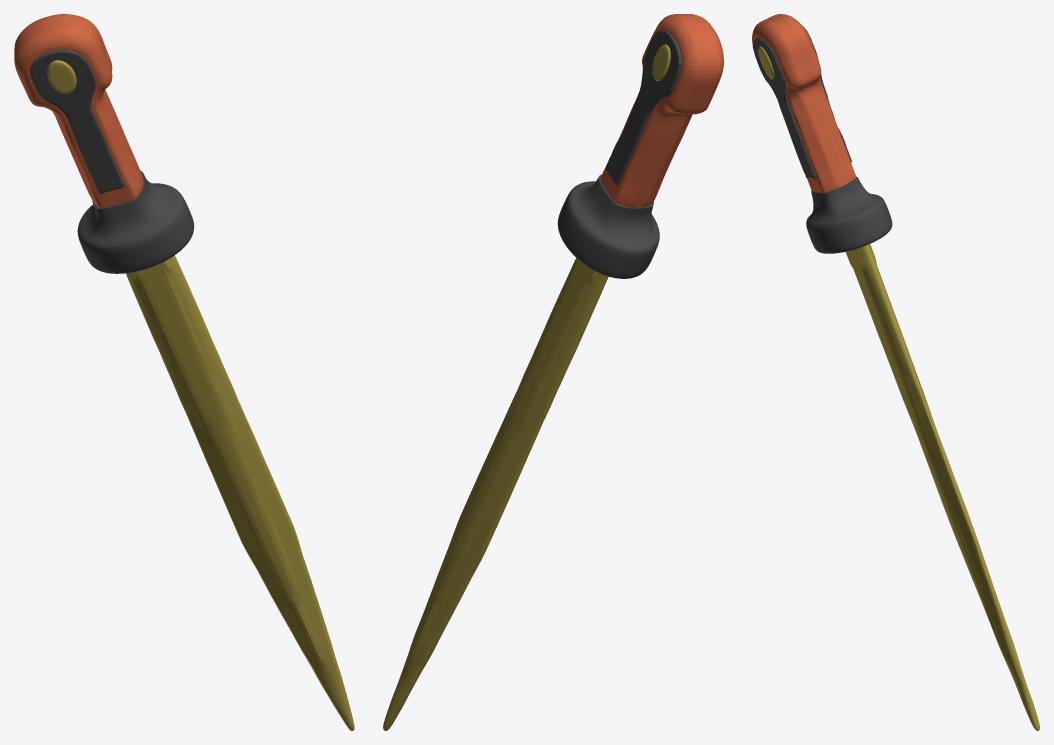
The model's file is COSSACK_WEAPON_12#4.glb.
3 renders of one model, left to right at view 1: azimuth 30°, elevation 25°; view 2: azimuth 150°, elevation 25°; view 3: azimuth 330°, elevation 25°, orthographic. The views are drawn at different scales.
Visible parts, largest first — view 1: mesh17_03_copy1, mesh17_05_copy1, ShortKindjal4, Extract2, mesh17_04_copy1; view 2: mesh17_03_copy1, mesh17_05_copy1, ShortKindjal4, Extract2; view 3: mesh17_03_copy1, mesh17_05_copy1, ShortKindjal4, Extract2.
Boxes of the visible parts, bbox=[...] form: mesh17_03_copy1: bbox=[126, 255, 354, 730]; mesh17_05_copy1: bbox=[14, 14, 143, 208]; ShortKindjal4: bbox=[77, 170, 194, 273]; Extract2: bbox=[30, 49, 124, 194]; mesh17_04_copy1: bbox=[47, 60, 76, 93]; mesh17_03_copy1: bbox=[383, 258, 608, 730]; mesh17_05_copy1: bbox=[600, 14, 723, 208]; ShortKindjal4: bbox=[557, 174, 659, 278]; Extract2: bbox=[605, 30, 681, 185]; mesh17_03_copy1: bbox=[845, 244, 1039, 730]; mesh17_05_copy1: bbox=[752, 14, 856, 192]; ShortKindjal4: bbox=[806, 176, 892, 253]; Extract2: bbox=[752, 25, 852, 178].
Bounding box in the file's own units: 1.4 × 3.12 × 0.3665.
